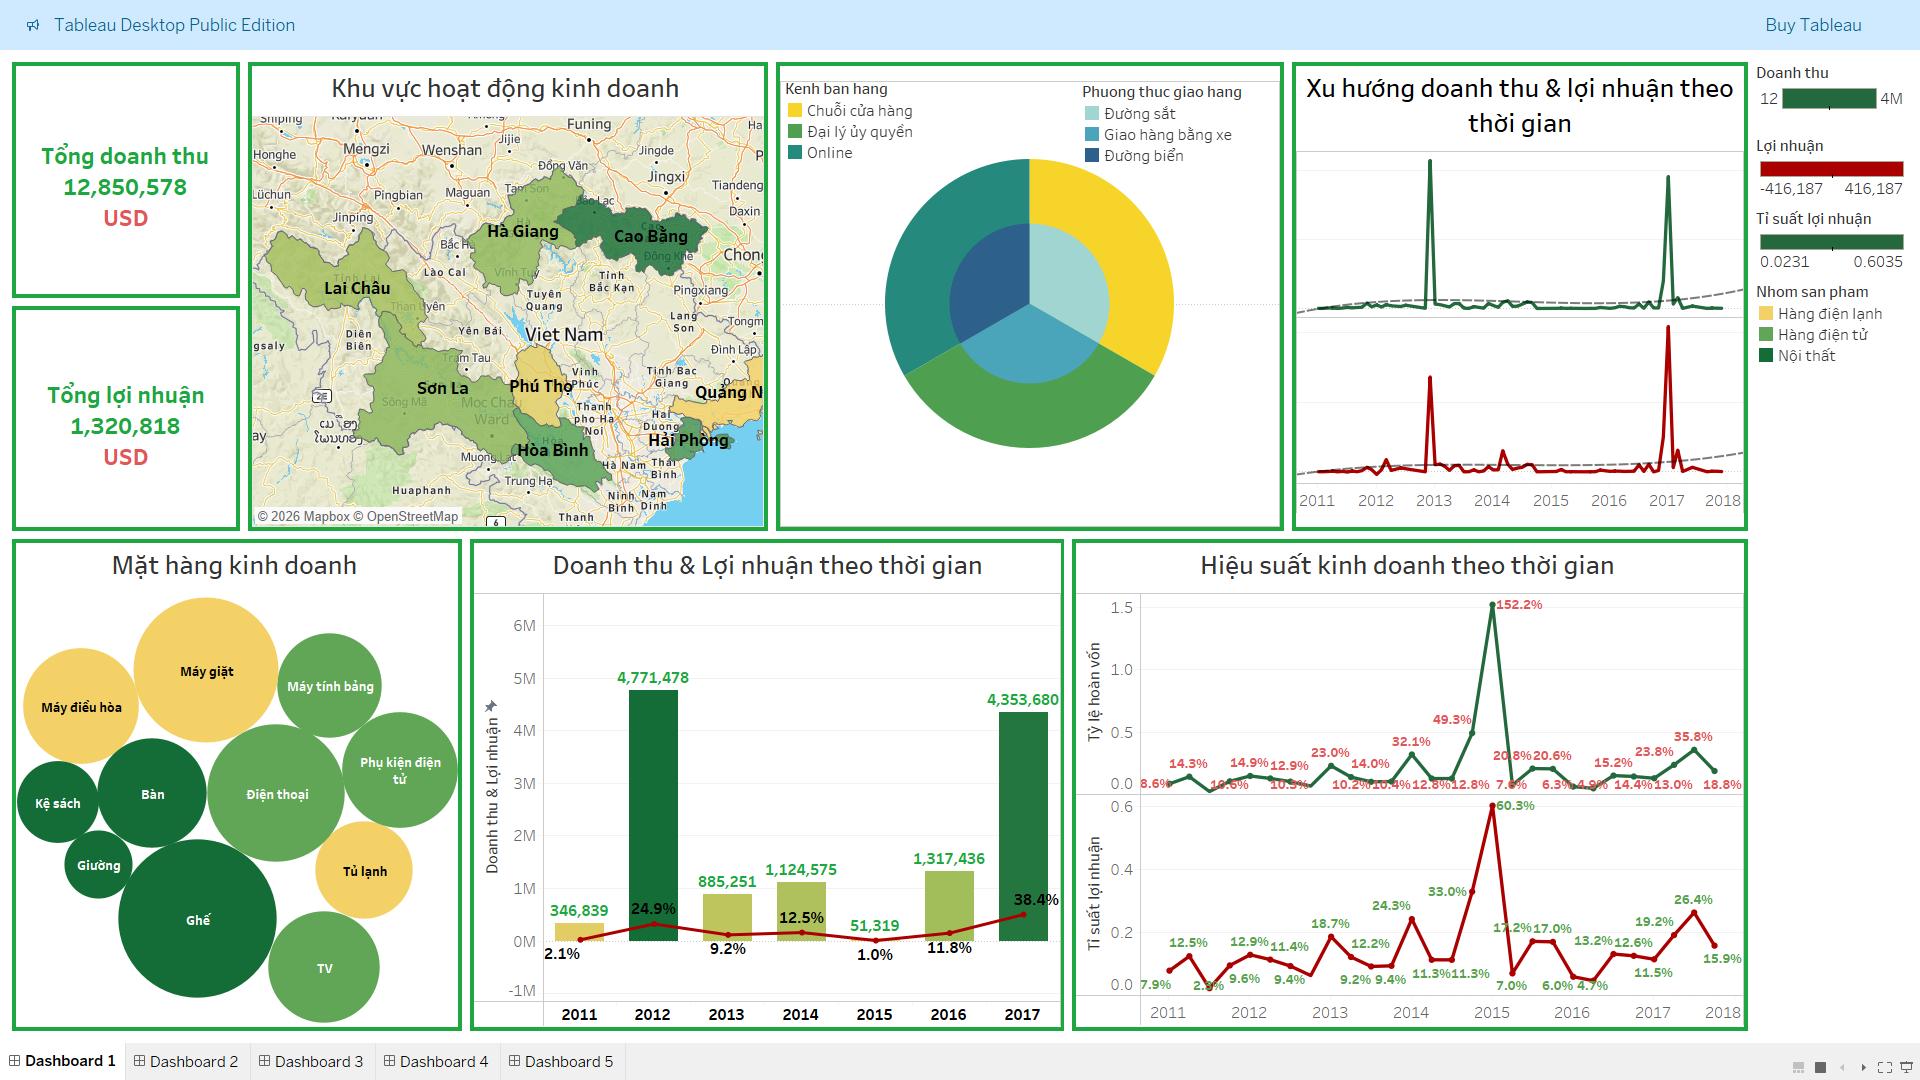

This screenshot's page, from the dashboard's own definition file:
{"tool":"tableau","page":{"name":"Dashboard 1","canvas":[1000,1000],"units":"permille","ordinal":0},"visuals":[{"type":"worksheet","title":"Tổng doanh thu","mark":"Automatic","box":[4.7,10.2,121.5,244.2]},{"type":"worksheet","title":"DB 1: Địa bàn hoạt động kinh doanh","mark":"Multipolygon","box":[126.2,10.2,272,477.8]},{"type":"worksheet","title":"DB 1: Kênh và Phương thức bán hàng","mark":"Pie","rows":["Calculation_443604625296019464","Calculation_443604625296019464"],"box":[398.1,10.2,265.4,477.8]},{"type":"worksheet","title":"DB 1: Xu hướng doanh thu & lợi nhuận","mark":"Automatic","rows":["Doanh thu","Loi nhuan"],"cols":["Ngay ban hang"],"box":[663.5,10.2,238.8,477.8]},{"type":"legend","title":"DB 1: Xu hướng doanh thu & lợi nhuận","param":"[federated.1sq9p5i18wjn6t1e2qz7n0ca84ti].[sum:Doanh thu:qk]","box":[902.3,10.2,93,93.5]},{"type":"legend","title":"DB 1: Kênh và Phương thức bán hàng","param":"[federated.1sq9p5i18wjn6t1e2qz7n0ca84ti].[none:Kenh ban hang:nk]","box":[408.7,27.9,92.4,148.3]},{"type":"legend","title":"DB 1: Kênh và Phương thức bán hàng","param":"[federated.1sq9p5i18wjn6t1e2qz7n0ca84ti].[none:Phuong thuc giao hang:nk]","box":[563.4,30.8,107.6,148.3]},{"type":"legend","title":"DB 1: Xu hướng doanh thu & lợi nhuận","param":"[federated.1sq9p5i18wjn6t1e2qz7n0ca84ti].[sum:Loi nhuan:qk]","box":[902.3,103.7,93,93.5]},{"type":"legend","title":"DB 1: Hiệu suất kinh doanh theo time","param":"[federated.1sq9p5i18wjn6t1e2qz7n0ca84ti].[usr:Calculation_661466256504778753:qk]","box":[902.3,197.2,93,93.5]},{"type":"worksheet","title":"Tổng lợi nhuận","mark":"Automatic","box":[4.7,254.4,121.5,233.6]},{"type":"legend","title":"DB 1: Mặt hàng kinh doanh","param":"[federated.1sq9p5i18wjn6t1e2qz7n0ca84ti].[none:Nhom san pham:nk]","box":[902.3,290.7,93,119.1]},{"type":"worksheet","title":"DB 1: Mặt hàng kinh doanh","mark":"Circle","box":[4.7,488.1,235.7,501.7]},{"type":"worksheet","title":"DB 1: Doanh thu và lợi nhuận","mark":"Automatic","rows":["Doanh thu","Loi nhuan"],"cols":["Ngay ban hang"],"box":[240.3,488.1,310.1,501.7]},{"type":"worksheet","title":"DB 1: Hiệu suất kinh doanh theo time","mark":"Line","rows":["Calculation_964614807393226753","Calculation_661466256504778753"],"cols":["Ngay ban hang"],"box":[550.5,488.1,351.9,501.7]}]}

Visuals, with their boxes on the dashboard's canvas, which has no fixed pixel size, in thousandths of its width and height (x1, y1, x2, y2). These are canvas units, not pixel positions in the 1920x1080 screenshot, which may show the page scaled, cropped or inside an application window:
"Tổng doanh thu" worksheet: [x1=5, y1=10, x2=126, y2=254]
"DB 1: Địa bàn hoạt động kinh doanh" worksheet (Multipolygon marks): [x1=126, y1=10, x2=398, y2=488]
"DB 1: Kênh và Phương thức bán hàng" worksheet (Pie marks): [x1=398, y1=10, x2=664, y2=488]
"DB 1: Xu hướng doanh thu & lợi nhuận" worksheet: [x1=664, y1=10, x2=902, y2=488]
"DB 1: Xu hướng doanh thu & lợi nhuận" legend: [x1=902, y1=10, x2=995, y2=104]
"DB 1: Kênh và Phương thức bán hàng" legend: [x1=409, y1=28, x2=501, y2=176]
"DB 1: Kênh và Phương thức bán hàng" legend: [x1=563, y1=31, x2=671, y2=179]
"DB 1: Xu hướng doanh thu & lợi nhuận" legend: [x1=902, y1=104, x2=995, y2=197]
"DB 1: Hiệu suất kinh doanh theo time" legend: [x1=902, y1=197, x2=995, y2=291]
"Tổng lợi nhuận" worksheet: [x1=5, y1=254, x2=126, y2=488]
"DB 1: Mặt hàng kinh doanh" legend: [x1=902, y1=291, x2=995, y2=410]
"DB 1: Mặt hàng kinh doanh" worksheet (Circle marks): [x1=5, y1=488, x2=240, y2=990]
"DB 1: Doanh thu và lợi nhuận" worksheet: [x1=240, y1=488, x2=550, y2=990]
"DB 1: Hiệu suất kinh doanh theo time" worksheet (Line marks): [x1=550, y1=488, x2=902, y2=990]
